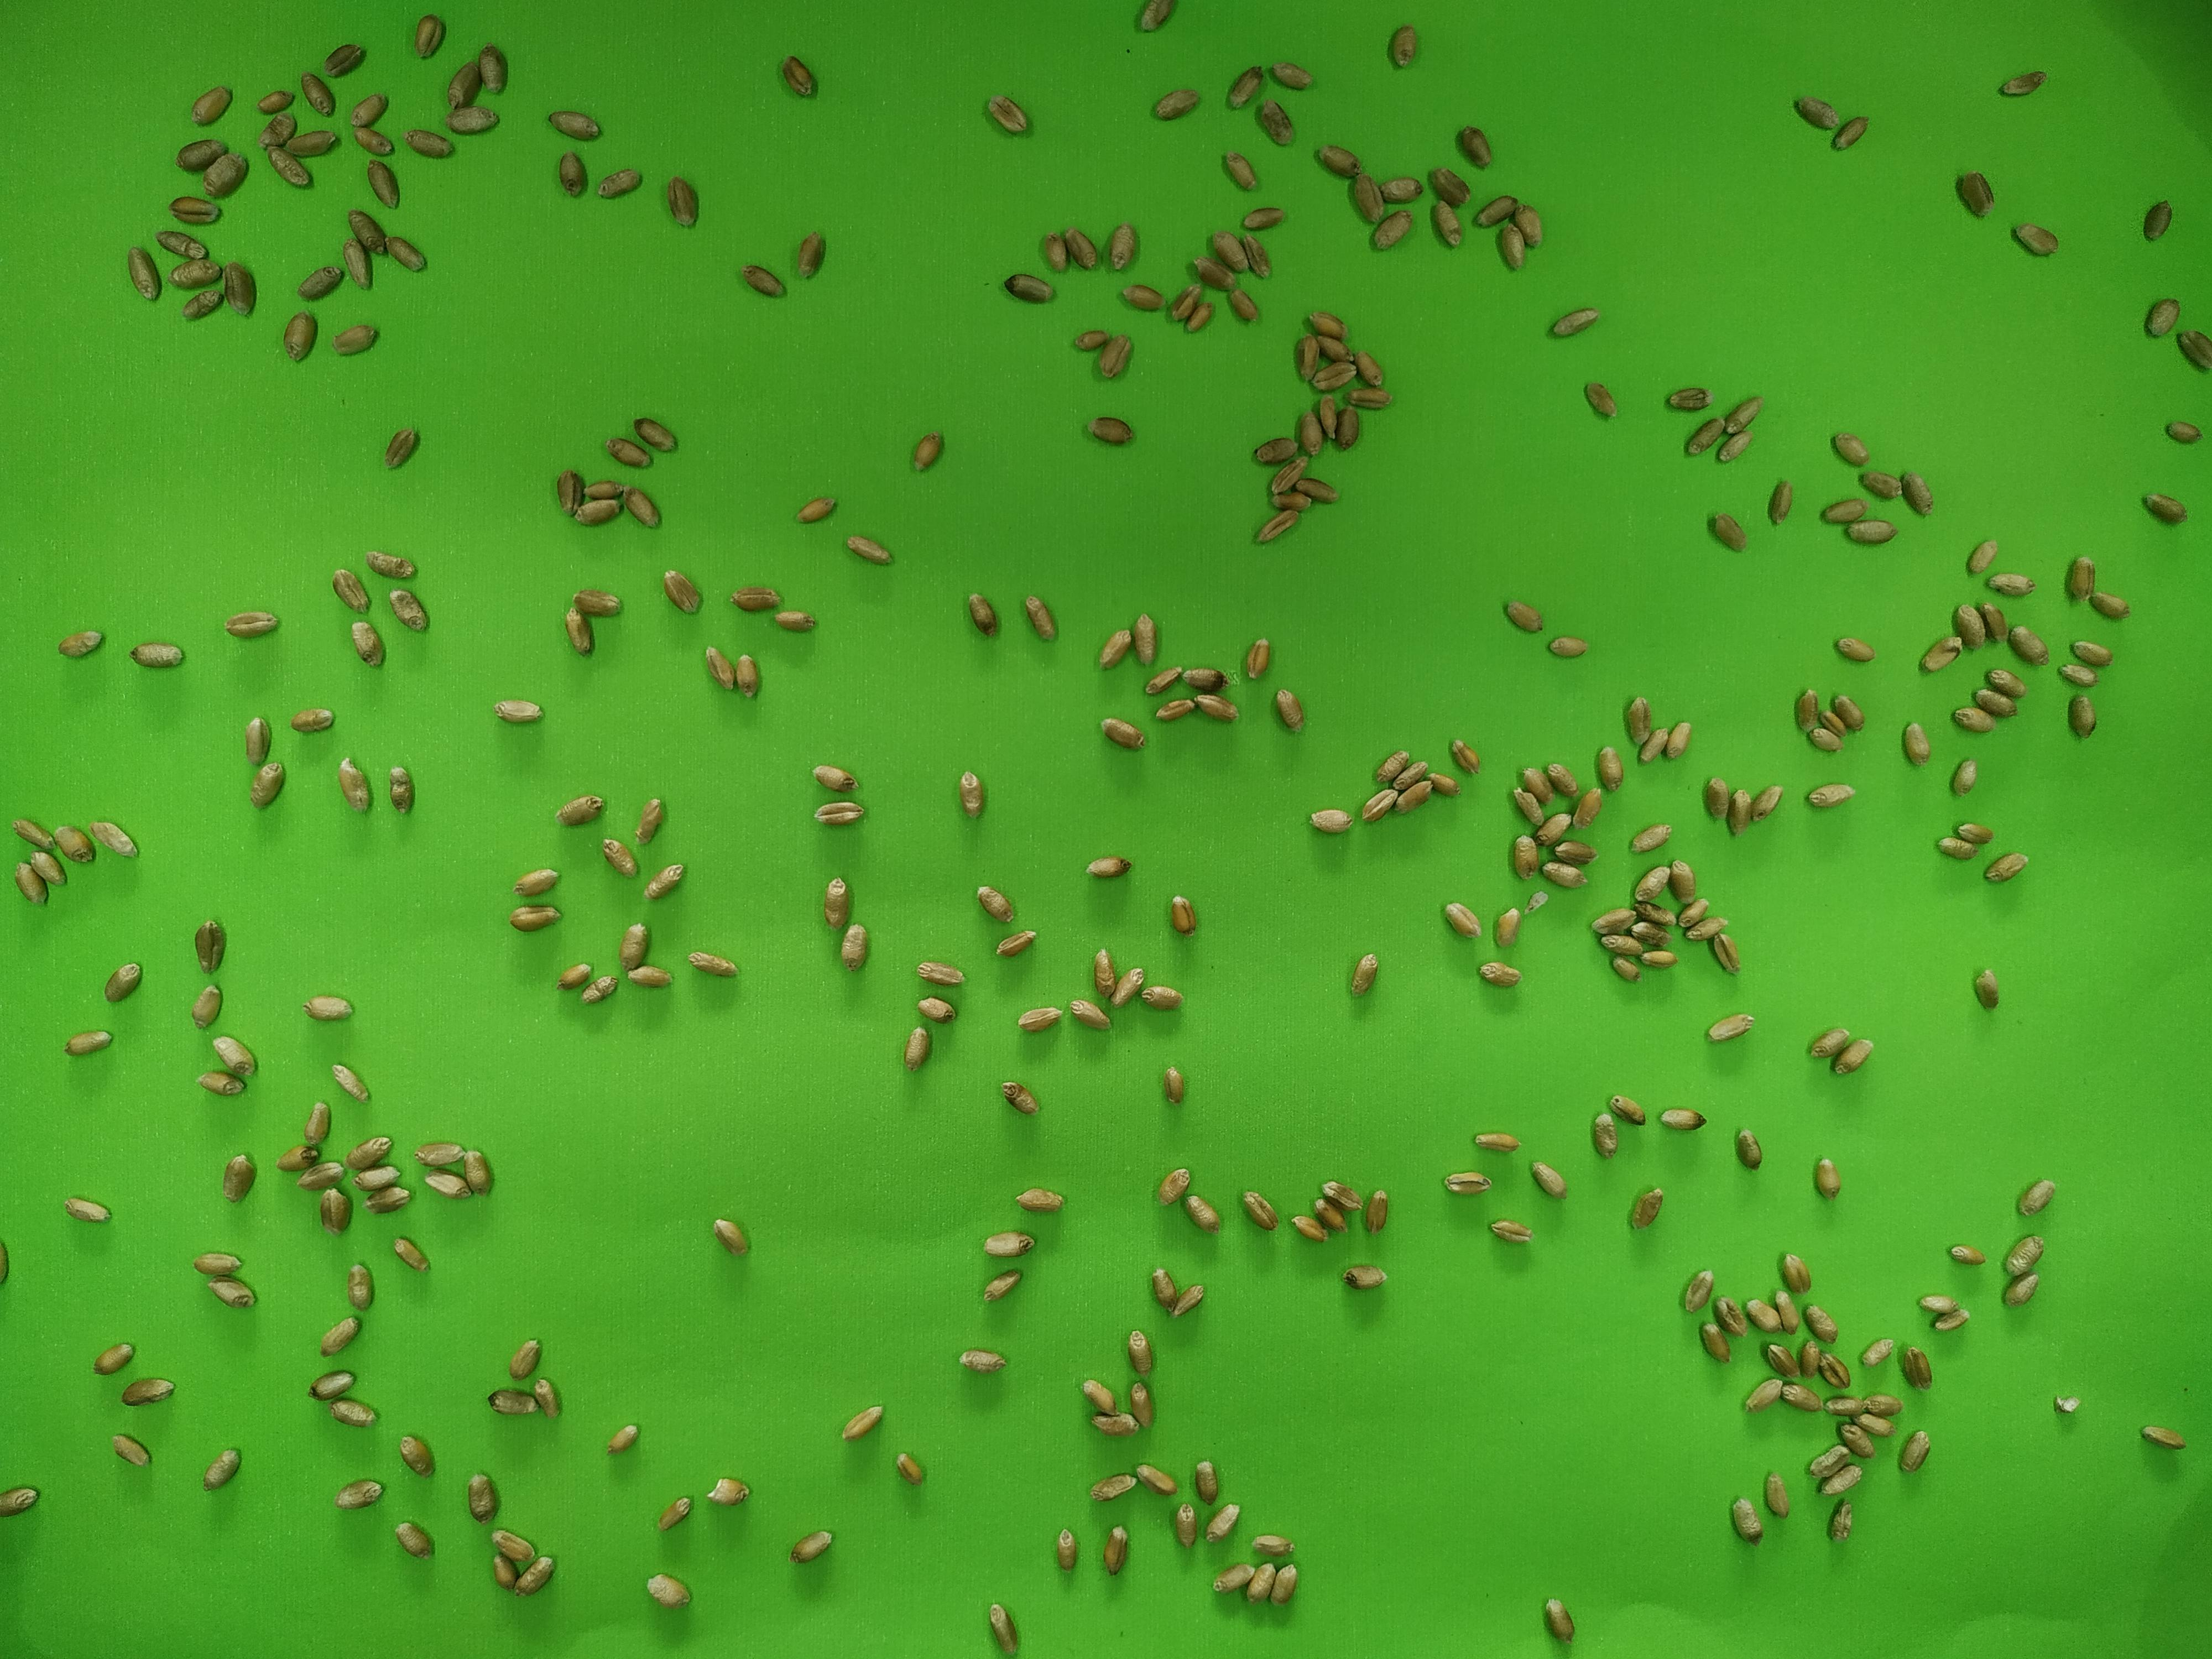bueno: (364, 542, 420, 584), (627, 411, 679, 455), (1092, 329, 1136, 380), (282, 307, 320, 362), (643, 857, 688, 904), (465, 1467, 502, 1525), (472, 42, 512, 94), (186, 82, 233, 125), (453, 1147, 495, 1195), (1918, 631, 1959, 680), (1019, 594, 1061, 643), (1339, 1256, 1388, 1298), (249, 760, 289, 810), (775, 51, 815, 101), (169, 136, 221, 174), (1103, 220, 1141, 272), (221, 1147, 256, 1204), (1385, 19, 1423, 71), (1695, 1310, 1730, 1368), (601, 432, 655, 469), (660, 568, 702, 615), (202, 1445, 244, 1492), (1177, 1192, 1224, 1234), (225, 261, 258, 321), (1094, 624, 1134, 673), (1775, 1249, 1815, 1298), (1508, 828, 1543, 884), (961, 587, 1000, 638), (1162, 889, 1198, 941), (190, 979, 226, 1032), (820, 877, 853, 934), (1190, 247, 1233, 291), (296, 71, 340, 115), (1238, 1188, 1282, 1232), (1815, 1347, 1857, 1392), (618, 484, 664, 526), (1531, 805, 1573, 850), (395, 1432, 437, 1478), (597, 835, 643, 877), (1703, 509, 1749, 551), (103, 958, 145, 1004), (1439, 899, 1484, 941), (348, 120, 395, 160), (1268, 685, 1308, 732), (711, 1213, 751, 1260), (644, 1574, 693, 1612), (347, 617, 385, 666), (1897, 1344, 1935, 1392), (1191, 1450, 1223, 1509), (413, 5, 444, 64), (556, 143, 587, 202), (899, 1023, 935, 1073), (1150, 84, 1200, 120), (1238, 633, 1275, 683), (1003, 272, 1059, 305), (552, 462, 585, 518), (1256, 504, 1298, 547), (272, 1140, 324, 1175), (1343, 380, 1395, 415), (953, 769, 988, 821), (1686, 415, 1730, 457), (258, 110, 300, 153), (383, 420, 418, 472), (1430, 195, 1465, 247), (110, 1427, 152, 1471), (1202, 1502, 1245, 1544), (366, 155, 401, 207), (1313, 139, 1359, 179), (1529, 1157, 1569, 1202), (334, 763, 373, 810), (1721, 396, 1768, 434), (1367, 211, 1414, 249), (1256, 99, 1294, 146), (1998, 1269, 2045, 1307), (320, 40, 368, 78), (193, 918, 225, 976), (1825, 687, 1864, 734), (907, 427, 946, 474), (1982, 847, 2029, 885), (838, 920, 871, 974), (1898, 716, 1932, 770), (1359, 1185, 1392, 1239), (2064, 549, 2097, 603), (331, 1476, 385, 1509), (1588, 1107, 1622, 1161), (1082, 413, 1136, 446), (1956, 169, 1993, 218), (528, 1375, 564, 1424), (2142, 293, 2179, 342), (1510, 779, 1547, 828), (1169, 1500, 1205, 1549), (1895, 1427, 1932, 1476), (1947, 701, 1998, 735), (1705, 1300, 1756, 1335), (841, 532, 892, 566), (2066, 690, 2101, 741), (387, 587, 428, 629), (169, 256, 225, 288), (444, 105, 500, 136), (1247, 434, 1303, 465), (221, 608, 277, 640), (1235, 237, 1277, 279), (1705, 934, 1747, 976), (2170, 326, 2212, 368), (974, 882, 1015, 924), (348, 89, 390, 131), (1630, 861, 1670, 904), (698, 645, 738, 688), (1224, 66, 1264, 110), (1712, 425, 1756, 465), (1832, 427, 1872, 471), (1761, 1338, 1804, 1378), (347, 207, 387, 251), (1501, 594, 1545, 634), (1296, 406, 1329, 458), (988, 1603, 1021, 1656), (568, 586, 620, 619), (792, 230, 826, 282), (632, 795, 665, 847), (211, 1035, 258, 1072), (1353, 178, 1390, 225), (1900, 471, 1937, 518), (507, 1337, 543, 1384), (1951, 599, 1987, 647), (319, 1187, 355, 1234), (340, 235, 374, 284), (49, 826, 98, 861), (1123, 1330, 1158, 1378), (1146, 1262, 1181, 1310), (1099, 714, 1148, 749), (704, 1473, 752, 1507), (913, 957, 967, 988), (545, 108, 599, 139), (162, 193, 216, 225), (343, 1258, 374, 1312), (1129, 1464, 1183, 1495), (1966, 688, 2020, 720), (206, 148, 246, 190), (517, 1554, 557, 1596), (331, 570, 371, 612), (482, 1387, 533, 1420), (327, 1396, 378, 1429), (118, 1375, 169, 1408), (728, 648, 761, 699), (561, 606, 594, 657), (2139, 491, 2189, 525), (1663, 857, 1702, 901), (1068, 993, 1111, 1032), (2013, 1178, 2057, 1216), (1329, 406, 1367, 450), (319, 1317, 362, 1356), (1219, 148, 1258, 192), (1359, 788, 1404, 824), (1292, 329, 1329, 375), (486, 1527, 531, 1563), (448, 63, 484, 108), (333, 322, 378, 359), (2012, 220, 2057, 256), (1580, 378, 1616, 423), (1801, 1300, 1838, 1345), (1101, 1518, 1130, 1574), (1498, 221, 1529, 274), (1447, 732, 1482, 779), (1474, 192, 1521, 227), (1858, 467, 1905, 502), (59, 1194, 111, 1225), (1491, 903, 1526, 950), (1982, 568, 2034, 599), (557, 793, 604, 828), (289, 127, 338, 160), (207, 1274, 256, 1307), (1125, 1377, 1158, 1425), (1730, 1495, 1763, 1544), (597, 166, 646, 199), (402, 127, 451, 160), (1630, 1183, 1663, 1232), (667, 178, 700, 227), (1137, 979, 1186, 1012), (984, 92, 1024, 132), (183, 284, 223, 324), (1745, 1373, 1787, 1412), (1832, 112, 1871, 153), (1393, 775, 1432, 817), (725, 584, 782, 612), (1789, 99, 1846, 127), (843, 1401, 885, 1439), (1803, 720, 1844, 758), (24, 847, 66, 885), (1064, 228, 1103, 270), (300, 263, 341, 301), (394, 1520, 435, 1558), (685, 950, 738, 979), (1592, 741, 1622, 795), (1792, 683, 1822, 737), (1841, 516, 1895, 545), (1820, 1502, 1857, 1546), (1963, 535, 2000, 579), (1797, 1337, 1834, 1380), (1458, 124, 1494, 167), (1428, 166, 1472, 202), (92, 1340, 136, 1377), (808, 760, 859, 791), (1089, 948, 1120, 999), (1264, 59, 1315, 91), (1548, 307, 1599, 338), (1803, 781, 1853, 812), (1012, 1004, 1062, 1035), (1663, 383, 1714, 415), (1268, 1558, 1299, 1608), (1118, 281, 1169, 312), (958, 1342, 1003, 1377), (1130, 0, 1176, 35), (1519, 760, 1554, 805), (1829, 1037, 1874, 1072), (488, 1551, 523, 1596), (1541, 857, 1587, 892), (1630, 819, 1676, 854), (1818, 1462, 1865, 1495), (738, 261, 786, 295), (298, 1159, 345, 1192), (2160, 416, 2207, 450), (1475, 958, 1522, 992), (1731, 1126, 1764, 1173), (195, 1066, 242, 1100), (2085, 589, 2132, 622), (265, 152, 317, 181), (1979, 667, 2031, 697), (2066, 636, 2118, 666), (1167, 282, 1205, 322), (791, 1527, 831, 1565), (2008, 626, 2048, 664), (981, 1227, 1029, 1258), (1946, 755, 1982, 796), (331, 1060, 368, 1101), (1679, 1267, 1716, 1309), (303, 1098, 334, 1147), (127, 251, 158, 300), (390, 1230, 427, 1272), (624, 962, 672, 993), (287, 706, 336, 737), (493, 697, 542, 728), (1810, 1155, 1841, 1204), (1082, 1375, 1118, 1417), (981, 1267, 1022, 1303), (383, 234, 425, 270), (1151, 692, 1200, 723), (998, 1079, 1040, 1115), (1348, 948, 1379, 997), (989, 927, 1038, 958), (1629, 897, 1677, 929), (1681, 910, 1724, 945), (1977, 599, 2012, 643), (253, 84, 296, 118), (1211, 1561, 1254, 1596), (127, 640, 181, 667), (509, 866, 563, 894), (1312, 387, 1345, 432), (1242, 1560, 1275, 1605), (1604, 1093, 1649, 1126), (1804, 1025, 1850, 1058), (1306, 1197, 1352, 1230), (1092, 1410, 1143, 1439), (59, 1028, 110, 1058), (1085, 1473, 1136, 1502), (1083, 852, 1134, 882), (1777, 1382, 1827, 1412), (817, 798, 867, 828), (2052, 659, 2102, 688), (1705, 1012, 1756, 1042), (620, 918, 650, 969), (1014, 1185, 1064, 1215), (1512, 200, 1541, 251), (1487, 1216, 1534, 1248), (1193, 692, 1240, 723), (1240, 202, 1287, 234), (792, 493, 840, 525), (1249, 1528, 1296, 1560), (1834, 1417, 1872, 1455), (603, 1419, 641, 1457), (1604, 948, 1644, 985), (1658, 720, 1695, 760), (1352, 349, 1388, 389), (1291, 1211, 1331, 1248), (1167, 1283, 1207, 1319), (12, 864, 49, 904), (1541, 758, 1578, 798), (1157, 1168, 1193, 1208), (2137, 202, 2172, 244), (1588, 906, 1641, 934), (1750, 779, 1785, 821), (91, 821, 132, 856), (1635, 941, 1677, 976), (1306, 307, 1348, 342), (190, 1248, 242, 1276), (7, 814, 49, 849), (507, 904, 563, 931), (1157, 1063, 1191, 1105), (1623, 692, 1651, 744), (1543, 1595, 1571, 1647), (1745, 1293, 1780, 1335), (766, 606, 819, 634), (1392, 756, 1433, 791), (54, 627, 103, 657), (1550, 836, 1599, 866), (1820, 495, 1869, 525), (582, 472, 631, 502), (366, 1183, 409, 1216), (914, 993, 960, 1025), (1543, 631, 1588, 662), (894, 1446, 925, 1492), (413, 1138, 458, 1169), (1313, 1182, 1367, 1208), (1763, 1469, 1789, 1523), (1054, 1521, 1080, 1575), (1818, 1392, 1869, 1420), (1951, 819, 2001, 847), (1702, 772, 1730, 823), (1042, 225, 1069, 275), (2005, 1234, 2043, 1270), (1939, 831, 1977, 868), (658, 1493, 693, 1534), (343, 1138, 390, 1168), (1998, 68, 2045, 98), (2137, 1422, 2184, 1452), (1306, 805, 1353, 835), (1804, 1446, 1846, 1480), (577, 495, 618, 528), (310, 1368, 352, 1401), (1836, 633, 1878, 666), (240, 718, 272, 762), (1764, 481, 1796, 525), (1291, 477, 1343, 504), (1116, 964, 1148, 1007), (1440, 1169, 1489, 1197), (155, 228, 200, 258), (1970, 967, 2000, 1012), (1224, 288, 1261, 324), (1372, 749, 1411, 784), (1315, 357, 1353, 392), (1204, 227, 1242, 261), (554, 960, 592, 995), (387, 765, 415, 812), (301, 993, 348, 1021), (1658, 1105, 1705, 1133), (425, 1168, 467, 1199), (1141, 666, 1184, 695), (1174, 664, 1226, 688), (1726, 788, 1750, 840), (1275, 451, 1308, 490), (1858, 1333, 1897, 1366), (1378, 176, 1423, 204), (1264, 491, 1320, 514), (1425, 770, 1465, 802), (578, 974, 618, 1006), (0, 1485, 42, 1514), (1069, 326, 1111, 356), (1132, 613, 1158, 660), (1184, 296, 1212, 340), (1566, 793, 1602, 826), (1946, 1239, 1987, 1267), (1677, 892, 1710, 927), (1857, 1391, 1904, 1415), (1595, 936, 1649, 957), (1641, 728, 1669, 767), (1625, 924, 1676, 945), (2048, 1389, 2085, 1417)
impureza: (1524, 890, 1550, 918)
